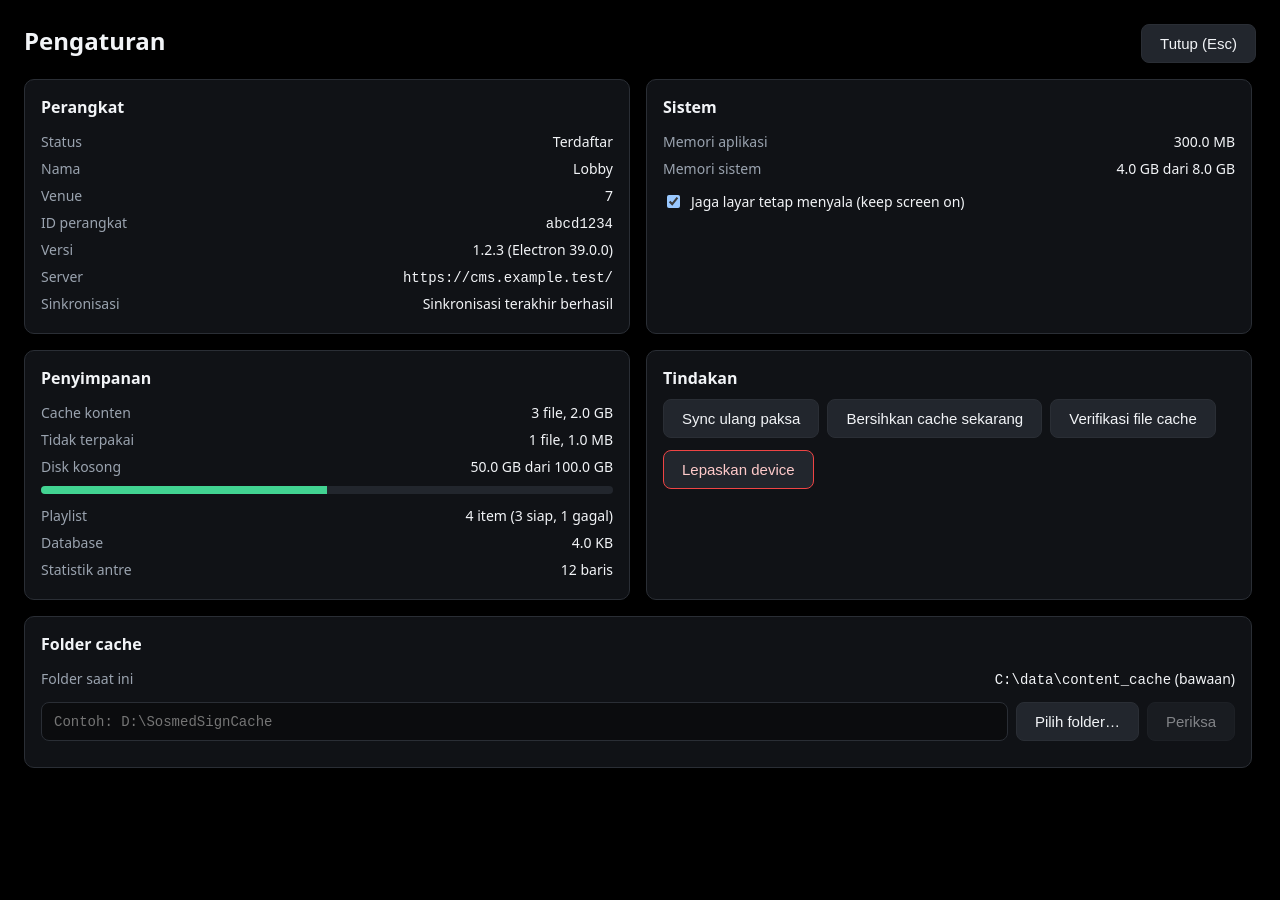
Test case: SettingsOverlay › runs the manual actions and shows their result
The width and height of the screenshot is (1280, 900).
What coordinates should you click on to do the following:
click the button "Sync ulang paksa"
I would click on:
 (741, 418)
Its box is [663,399,819,438].
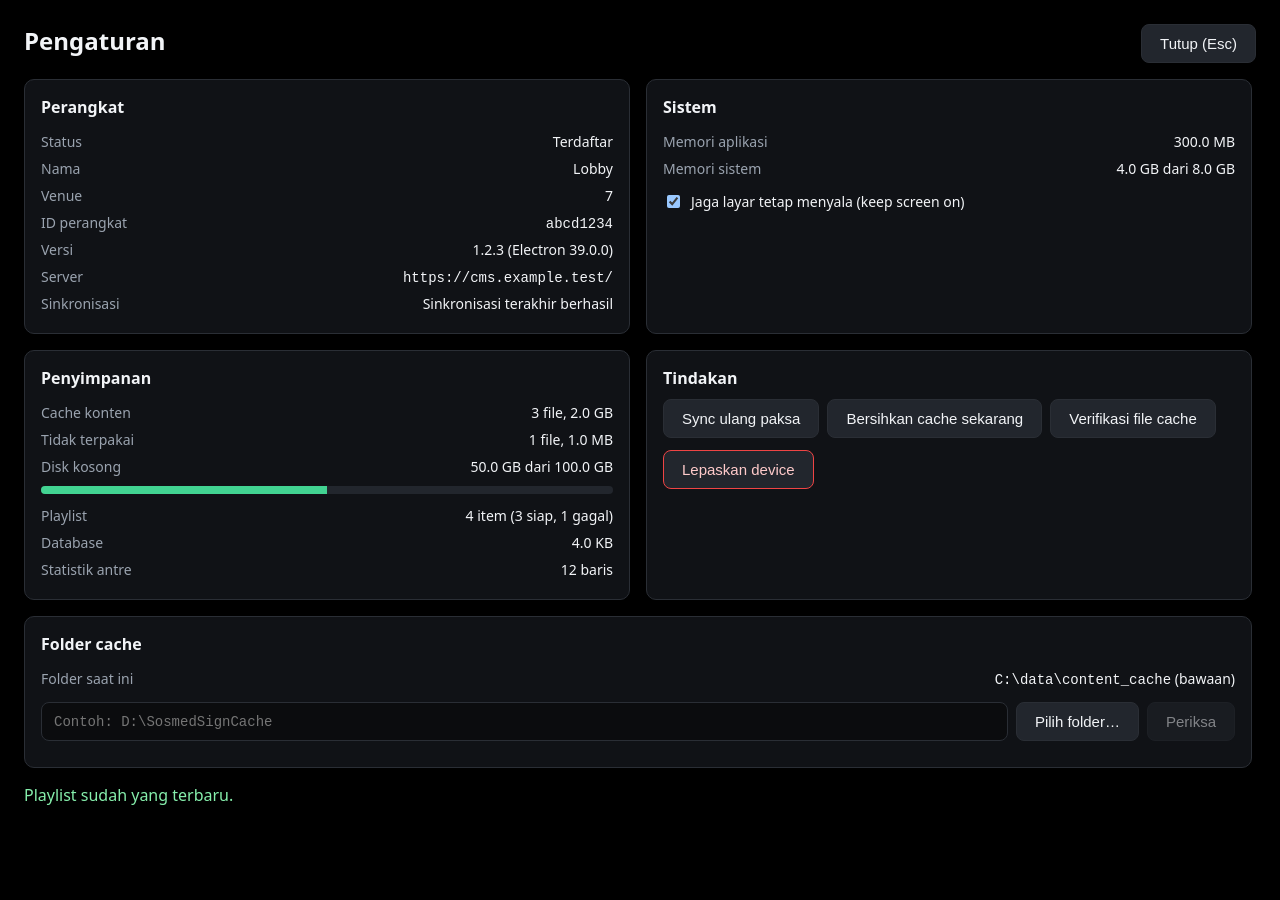
Expected: the text "Playlist sudah yang terbaru." is shown, [24,784,233,806]
What coordinates should you click on to do the following:
click the button "Bersihkan cache sekarang"
I would click on:
 (935, 418)
Its box is [827,399,1042,438].
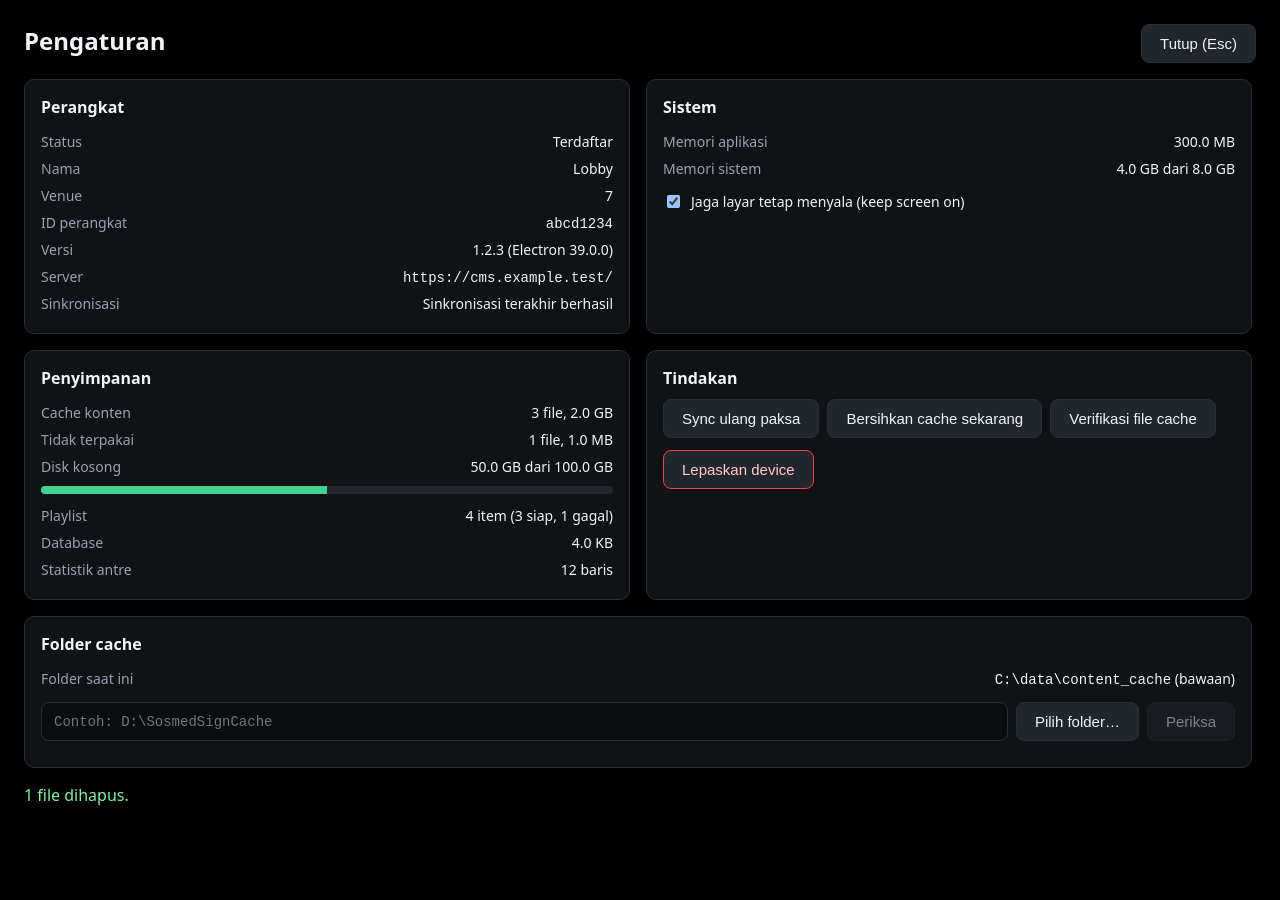
Expected: the text "1 file dihapus." is shown, [24,784,129,806]
What coordinates should you click on to do the following:
click the button "Verifikasi file cache"
I would click on:
 (1133, 418)
Its box is [1050,399,1216,438].
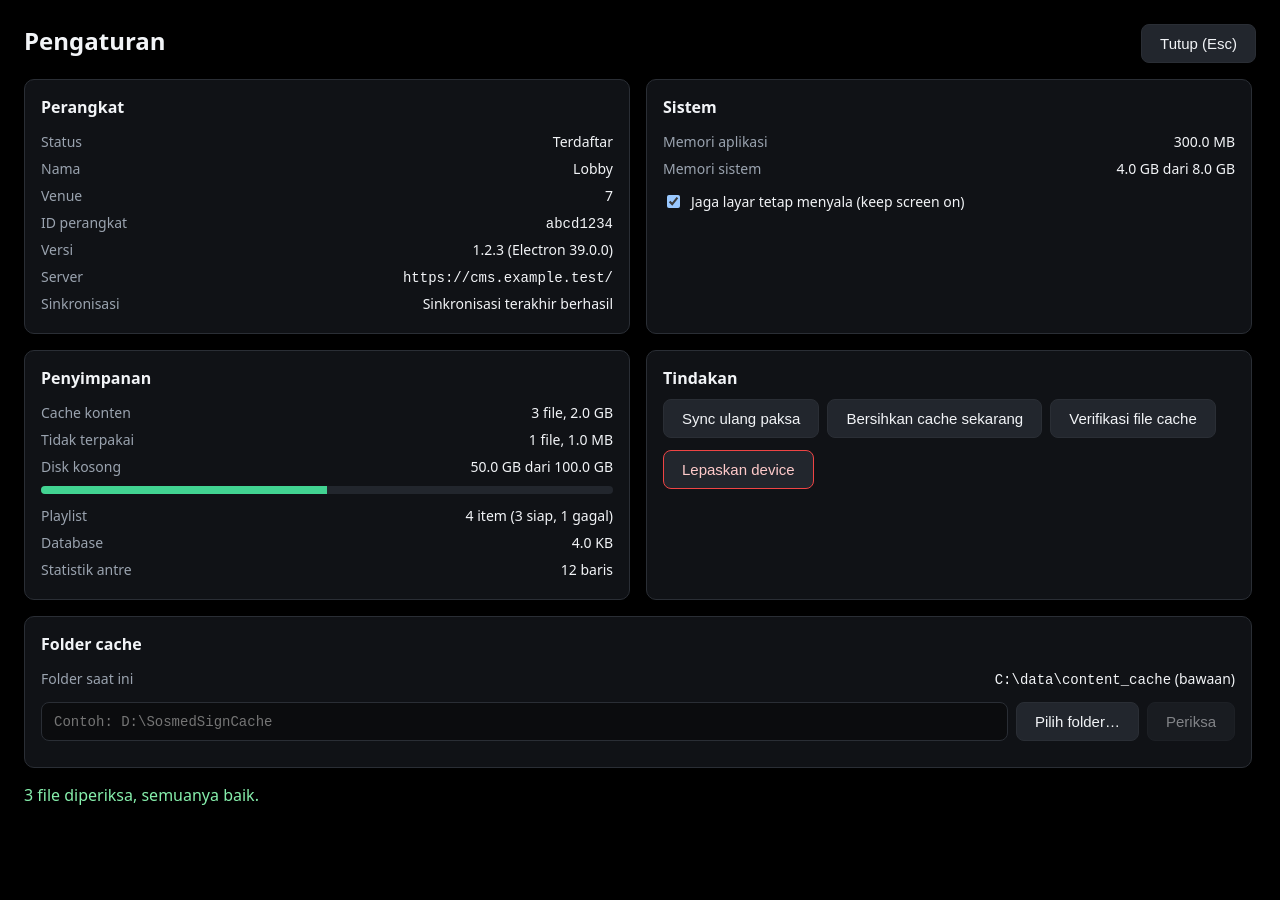
Expected: the text "3 file diperiksa, semuanya baik." is shown, [24,784,259,806]
